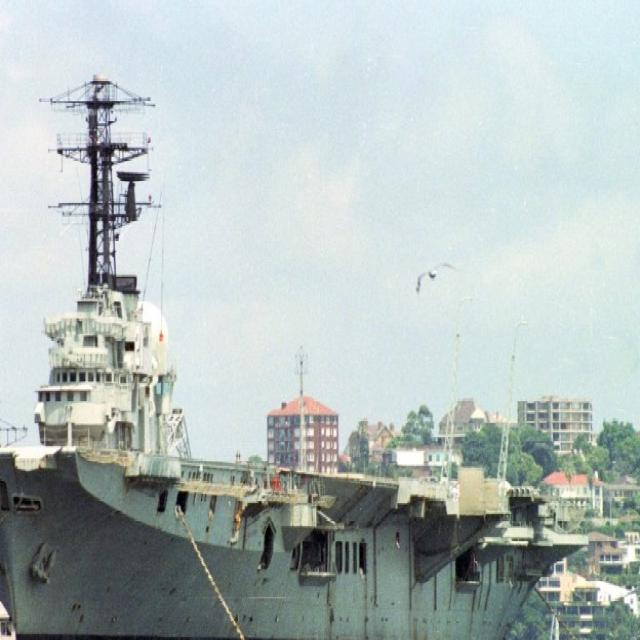Portanaves: (1, 58, 596, 640)
